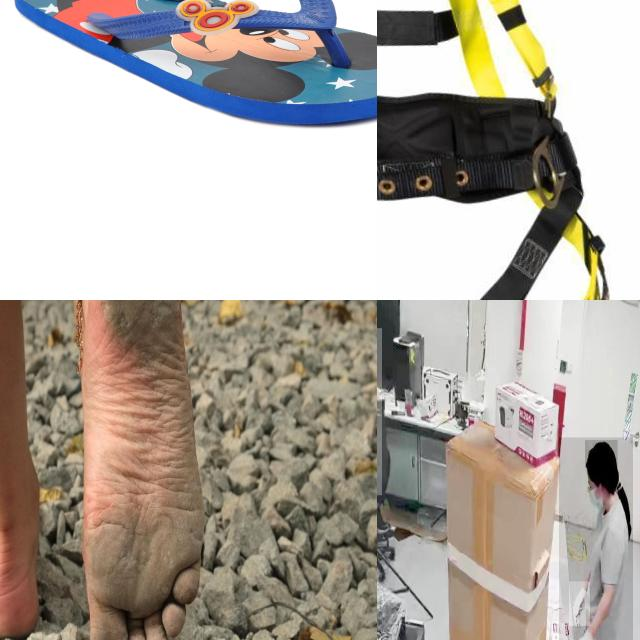Barefoots: (81, 300, 204, 640), (0, 491, 41, 640)
Harness: (377, 0, 609, 300)
Sandals: (10, 0, 377, 127)
face_mask: (580, 472, 608, 518)
hand_glove: (569, 581, 590, 626), (567, 627, 594, 640)
head_nohelmet: (585, 440, 618, 469)
person: (558, 437, 633, 640)
